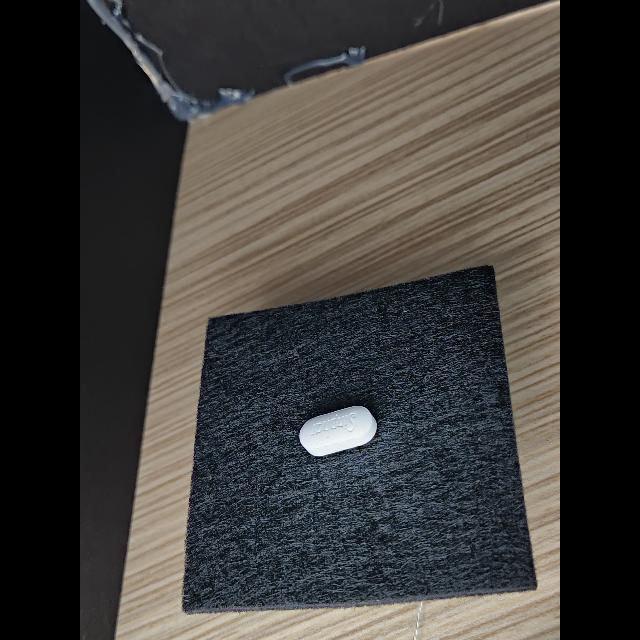Intact Pill: (299, 406, 377, 456)
